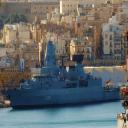Fragata: (6, 36, 122, 112)
